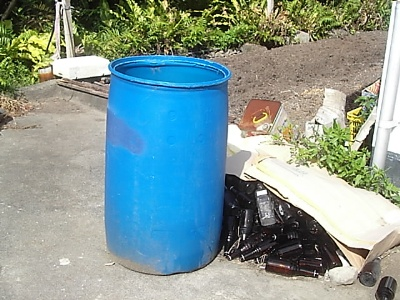bottle: (224, 196, 346, 280), (265, 256, 320, 284), (253, 182, 278, 226), (359, 253, 383, 286)
bucket: (100, 52, 230, 276), (240, 99, 299, 141)
